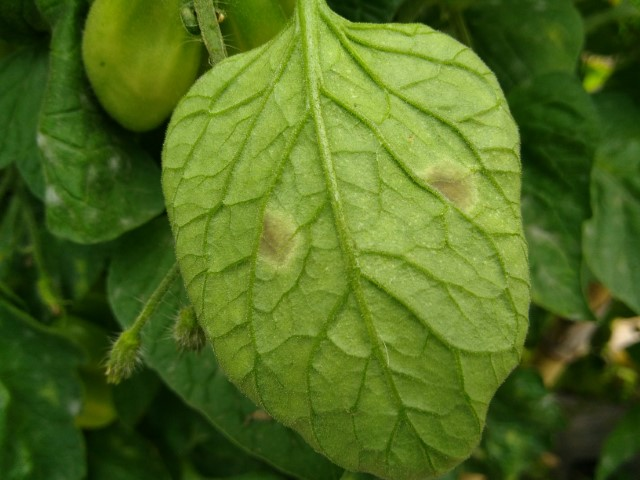cladosporium: (418, 170, 483, 215), (257, 212, 294, 268)
